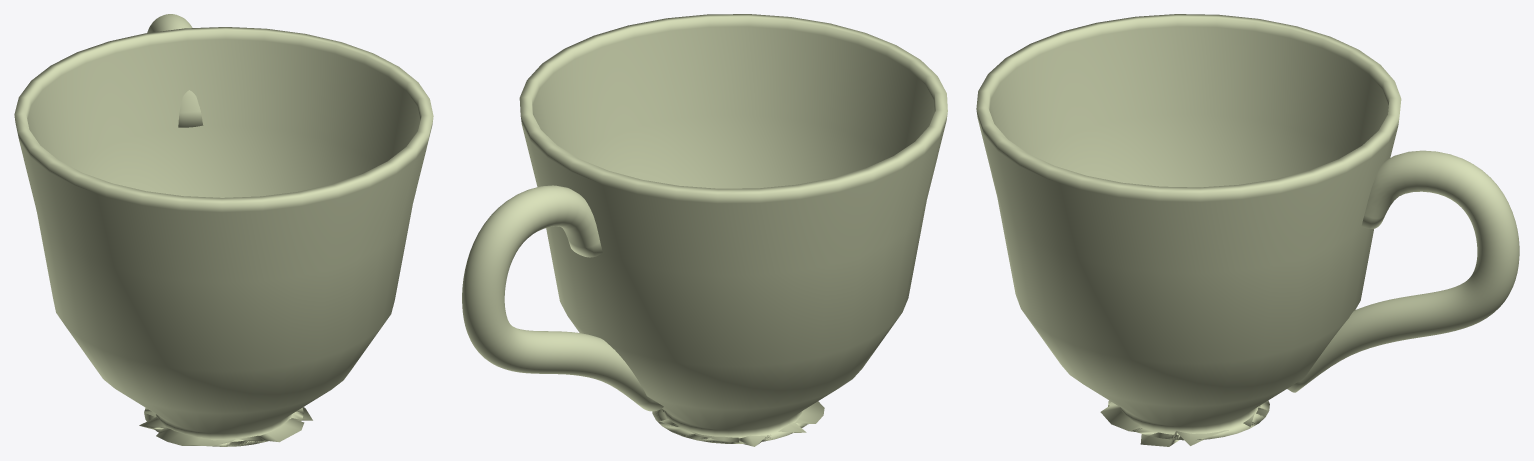
The model's file is cup.fbx.
3 renders of one model, left to right at view 1: azimuth 30°, elevation 25°; view 2: azimuth 150°, elevation 25°; view 3: azimuth 270°, elevation 25°, orthographic. The views are drawn at different scales.
Parts seen in each view (by area): view 1: cup; view 2: cup; view 3: cup.
Part boxes in pixels (bbox=[...]): cup: bbox=[14, 14, 433, 446]; cup: bbox=[462, 14, 947, 446]; cup: bbox=[976, 14, 1519, 446].
Bounding box in the file's own units: 8.99 × 7.26 × 11.49.
